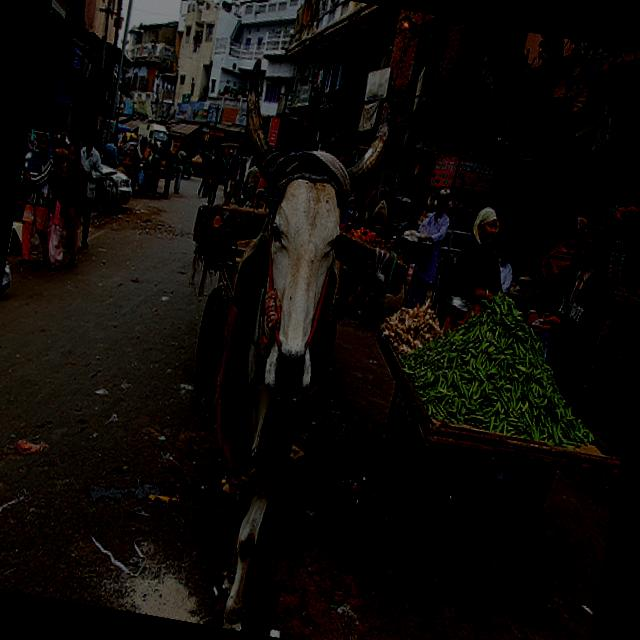Vehicle: (46, 134, 140, 208), (117, 141, 171, 181), (164, 136, 198, 180), (437, 228, 472, 268), (150, 122, 168, 141)
